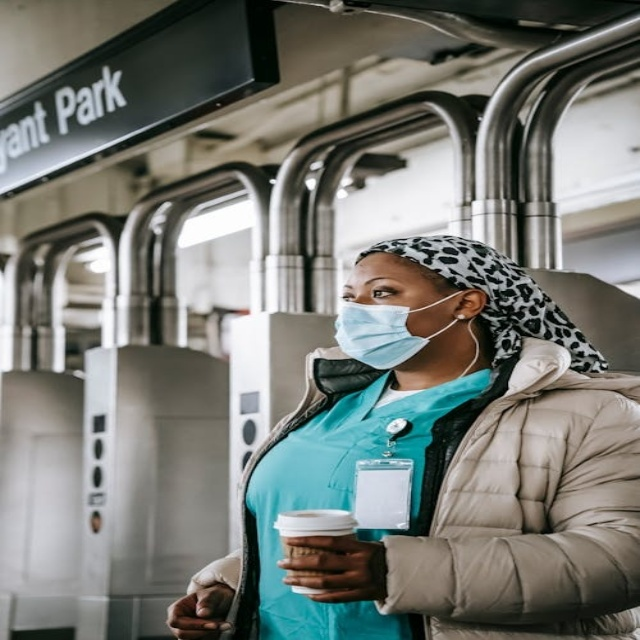Mascara: (334, 290, 462, 369)
Sin_gafas: (335, 276, 413, 303)
Sin_guantes: (276, 534, 389, 603), (167, 584, 234, 639)
